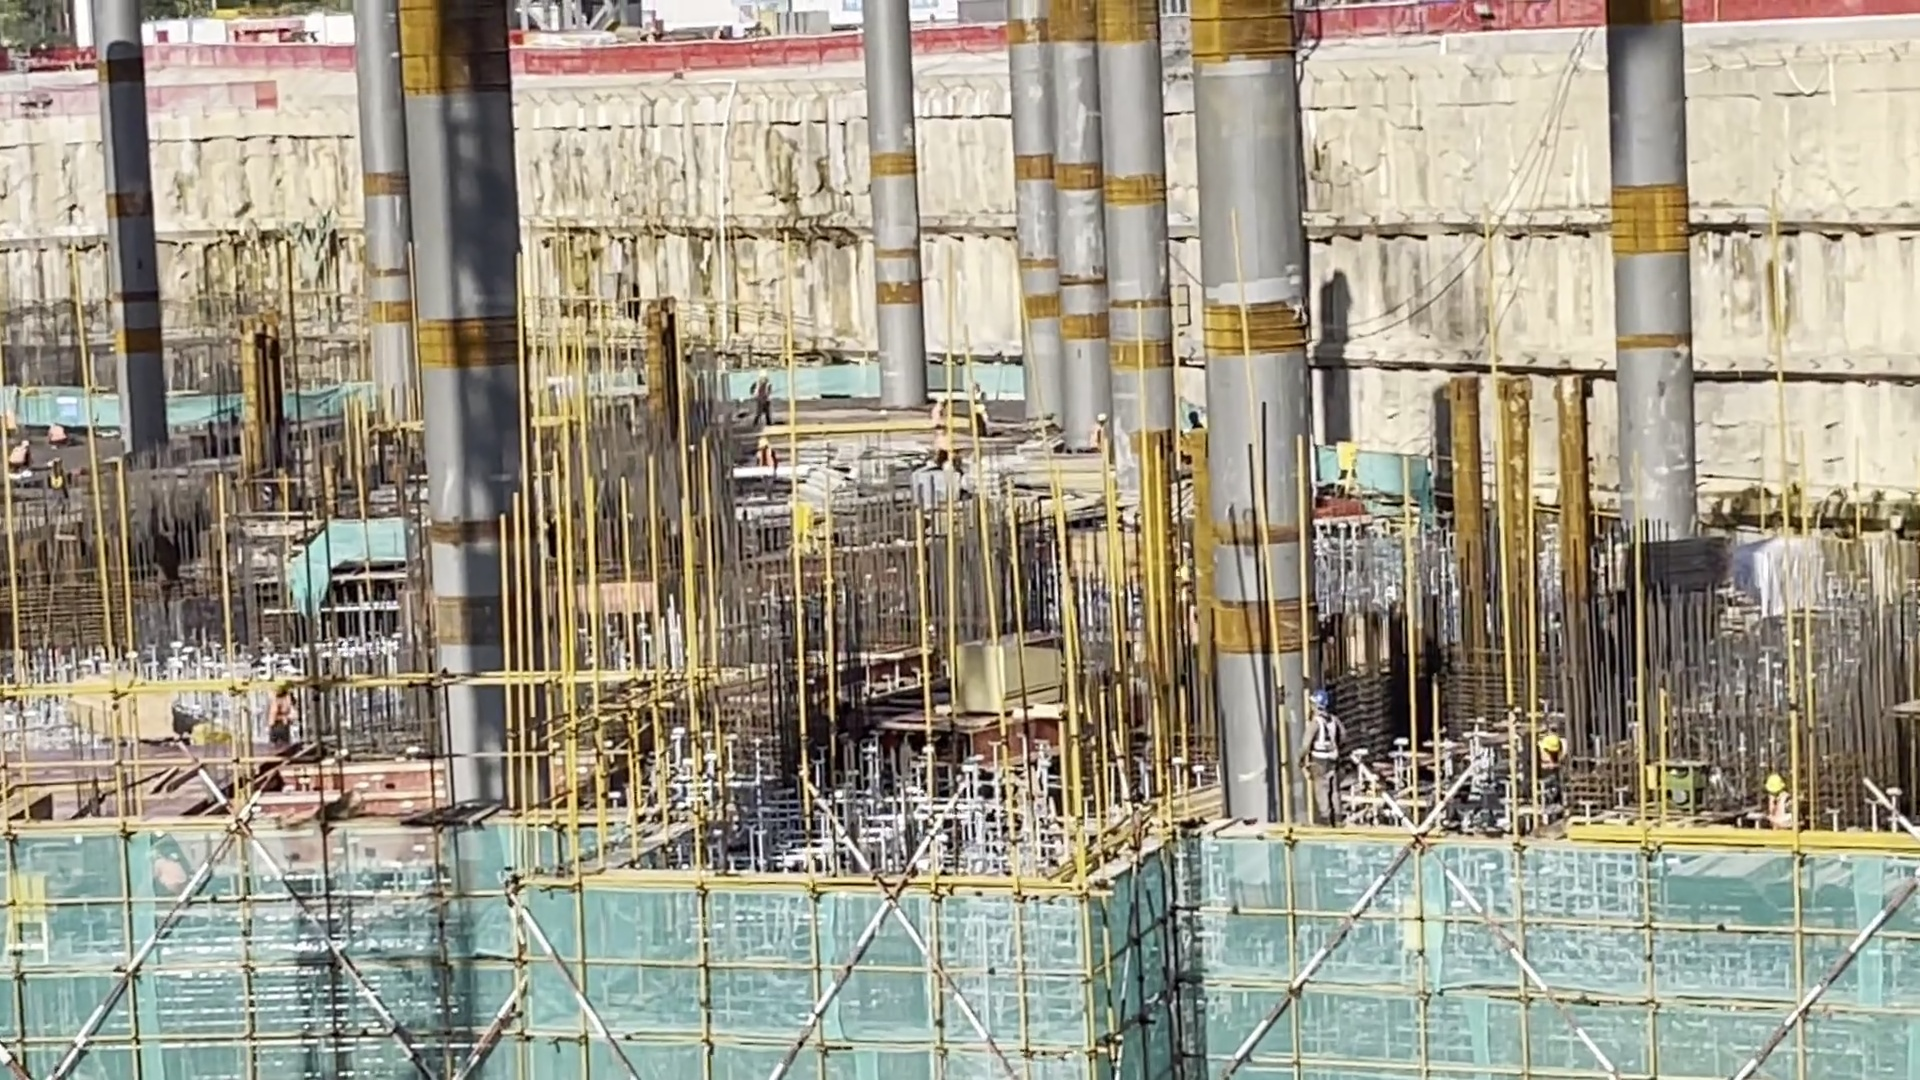helmet: (1766, 775, 1785, 793), (1543, 734, 1559, 752), (1308, 692, 1327, 707)
person: (1301, 689, 1348, 834), (1765, 774, 1790, 834)
vest: (1312, 719, 1336, 762)
